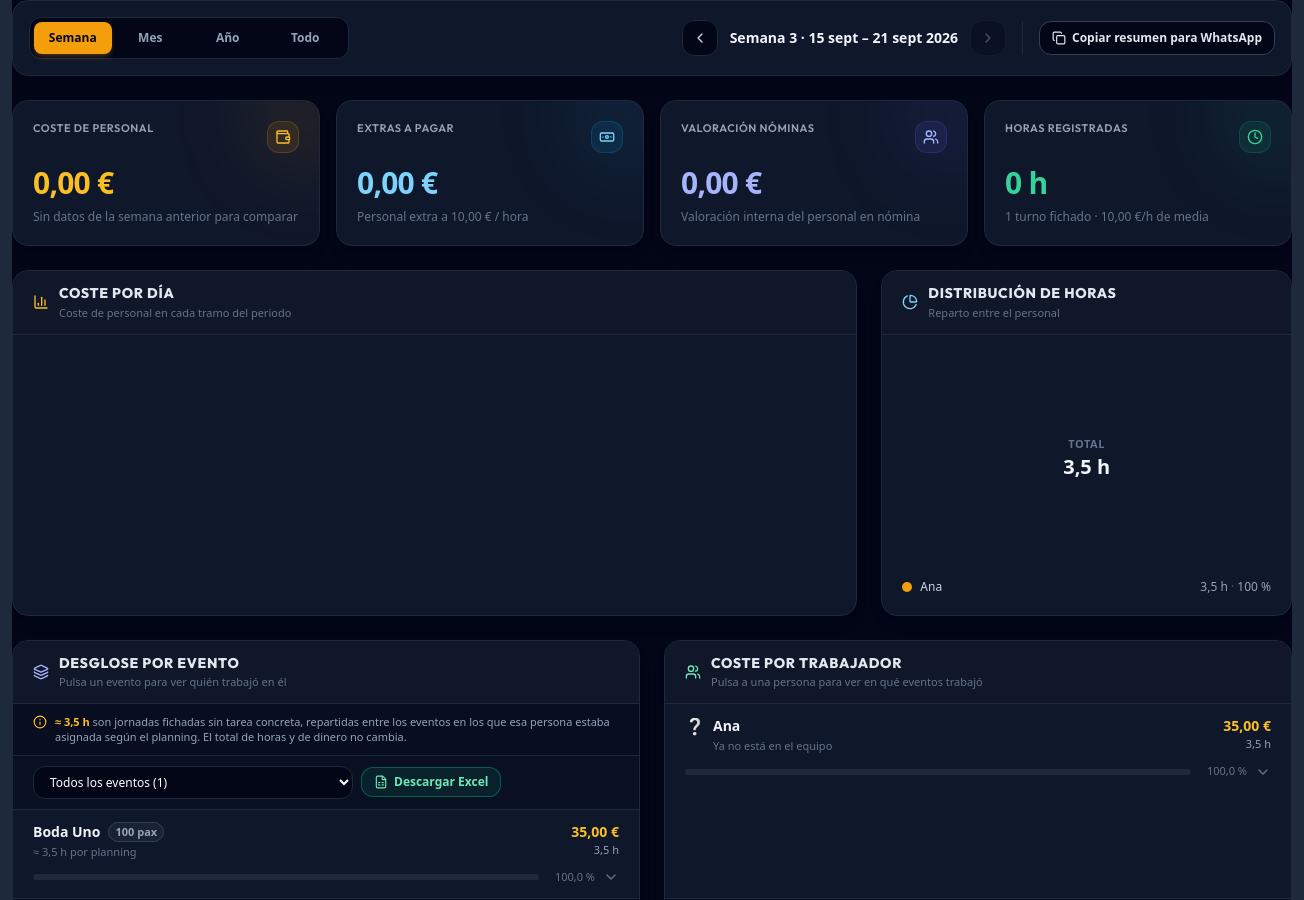
Test case: FinancialSummaryTab — desglose y comparación › una fila se despliega y enseña quién trabajó en el evento
The image size is (1304, 900).
Click the button "Boda Uno 100 pax ≈ 3,5 h por planning 35,00 € 3,5 h 100,0 %": (67, 831) [13,810,639,898]
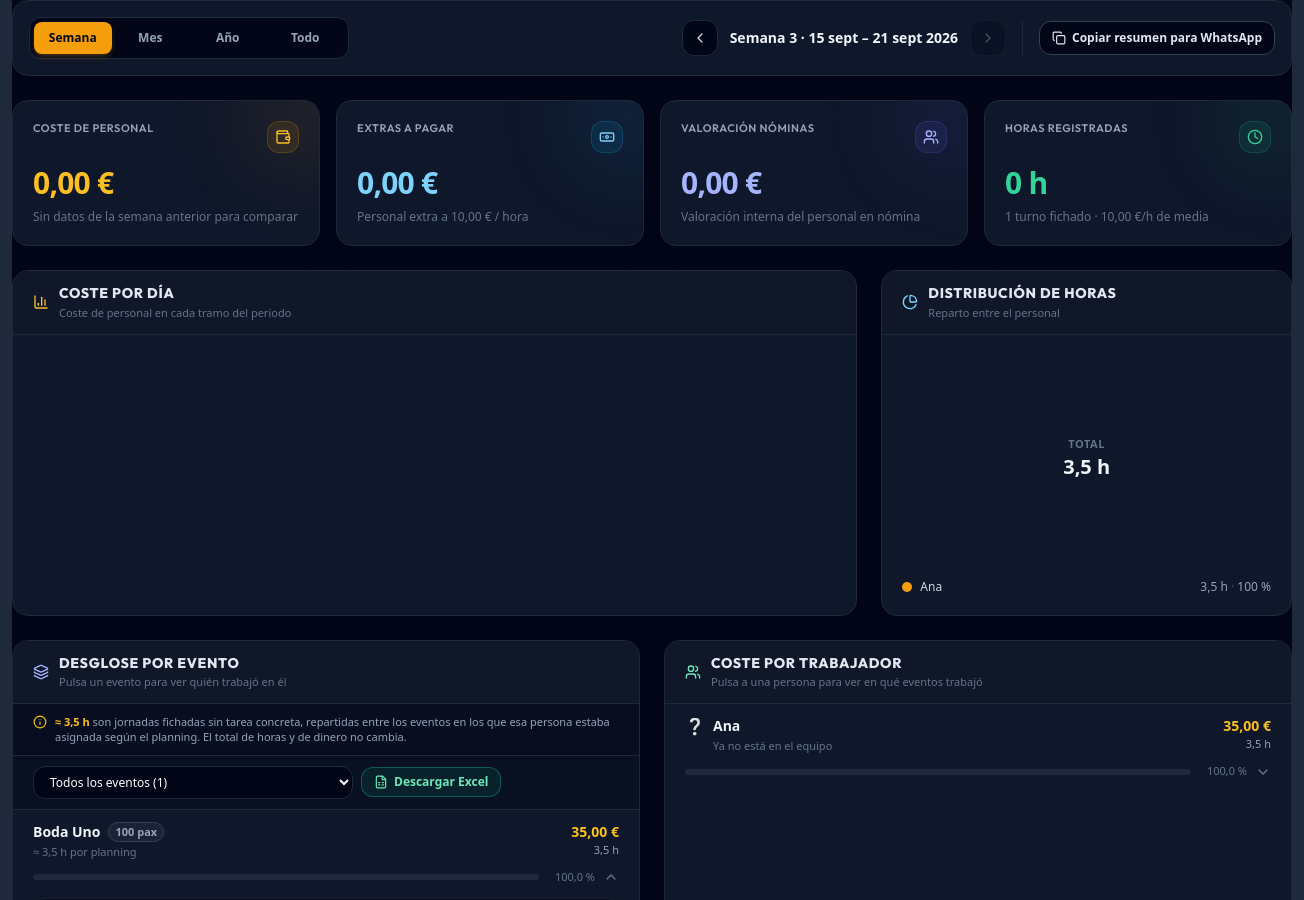
Result: the button "Boda Uno 100 pax ≈ 3,5 h por planning 35,00 € 3,5 h 100,0 %" is expanded
Click the button "Boda Uno 100 pax ≈ 3,5 h por planning 35,00 € 3,5 h 100,0 %": (67, 831) [13,810,639,898]
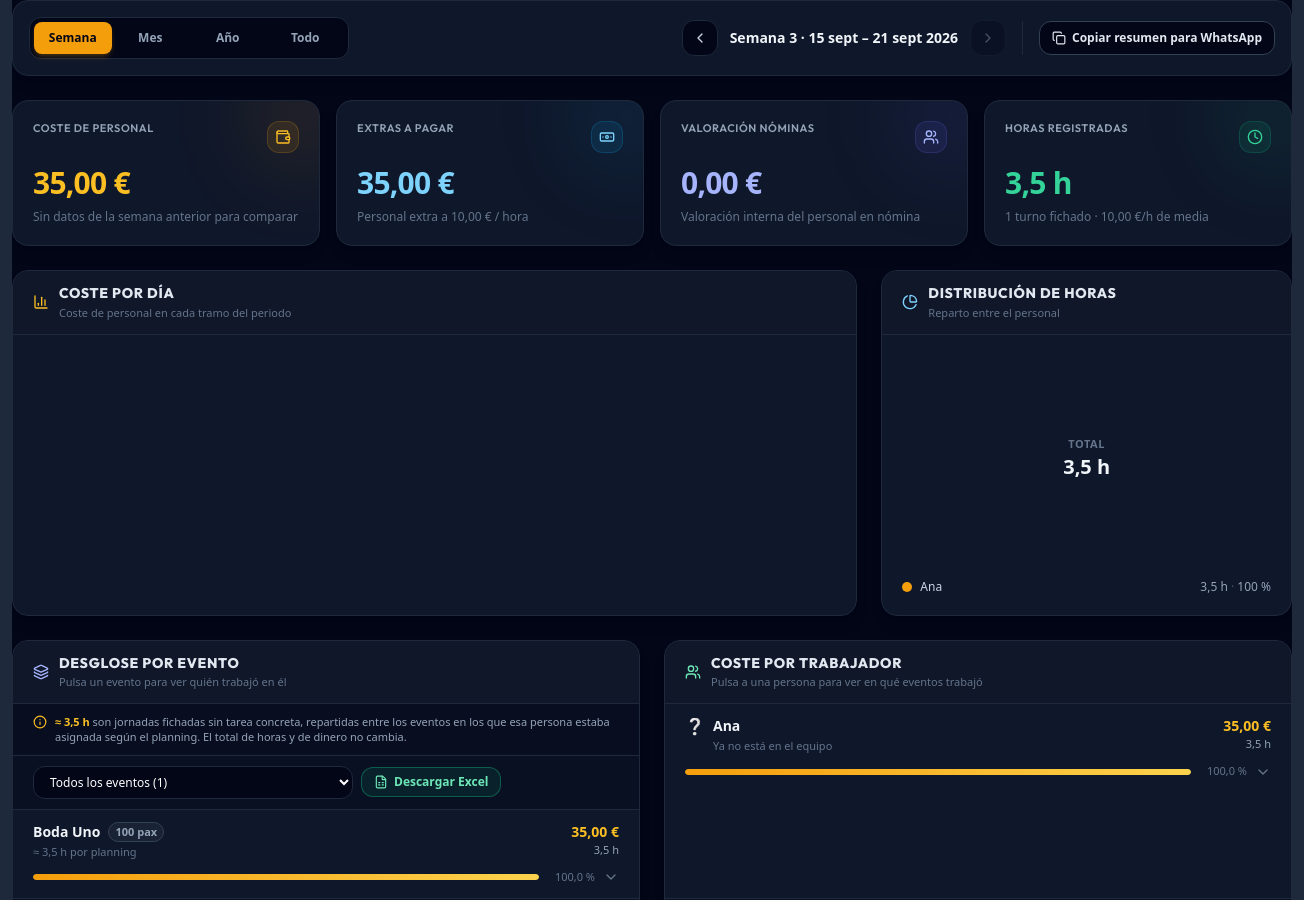
Result: the button "Boda Uno 100 pax ≈ 3,5 h por planning 35,00 € 3,5 h 100,0 %" is collapsed at [13,810,639,898]
